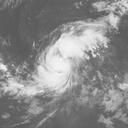cyclone: (34, 31, 84, 91)
